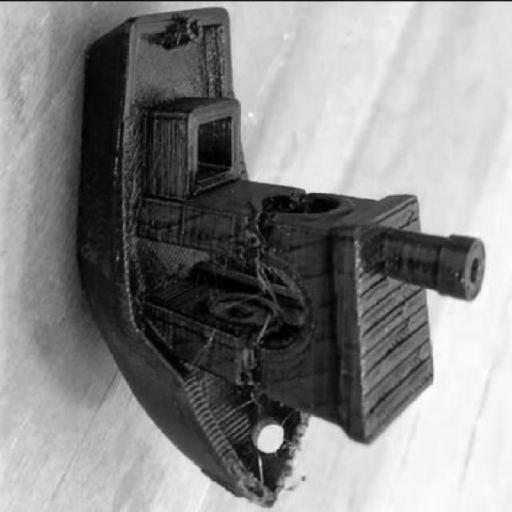spaghetti_and_stringing: (242, 257, 290, 358)
